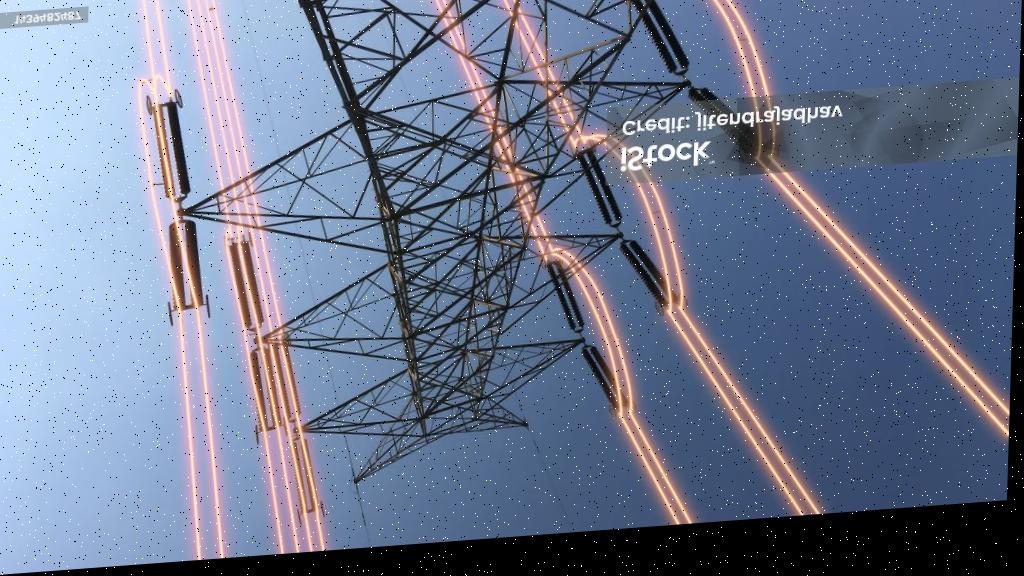tower: (296, 0, 677, 518)
